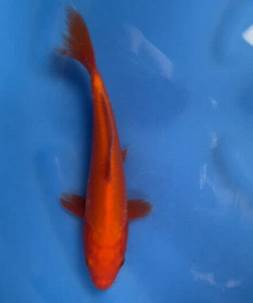red: (50, 3, 151, 291)
